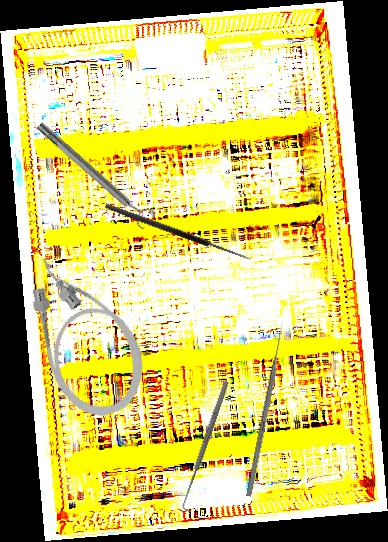Cannula: (14, 238, 158, 428)
Fixation Ring: (32, 115, 157, 232)
Hook Surgical: (104, 195, 255, 263), (178, 379, 235, 514)
Pusher: (246, 321, 286, 497)
